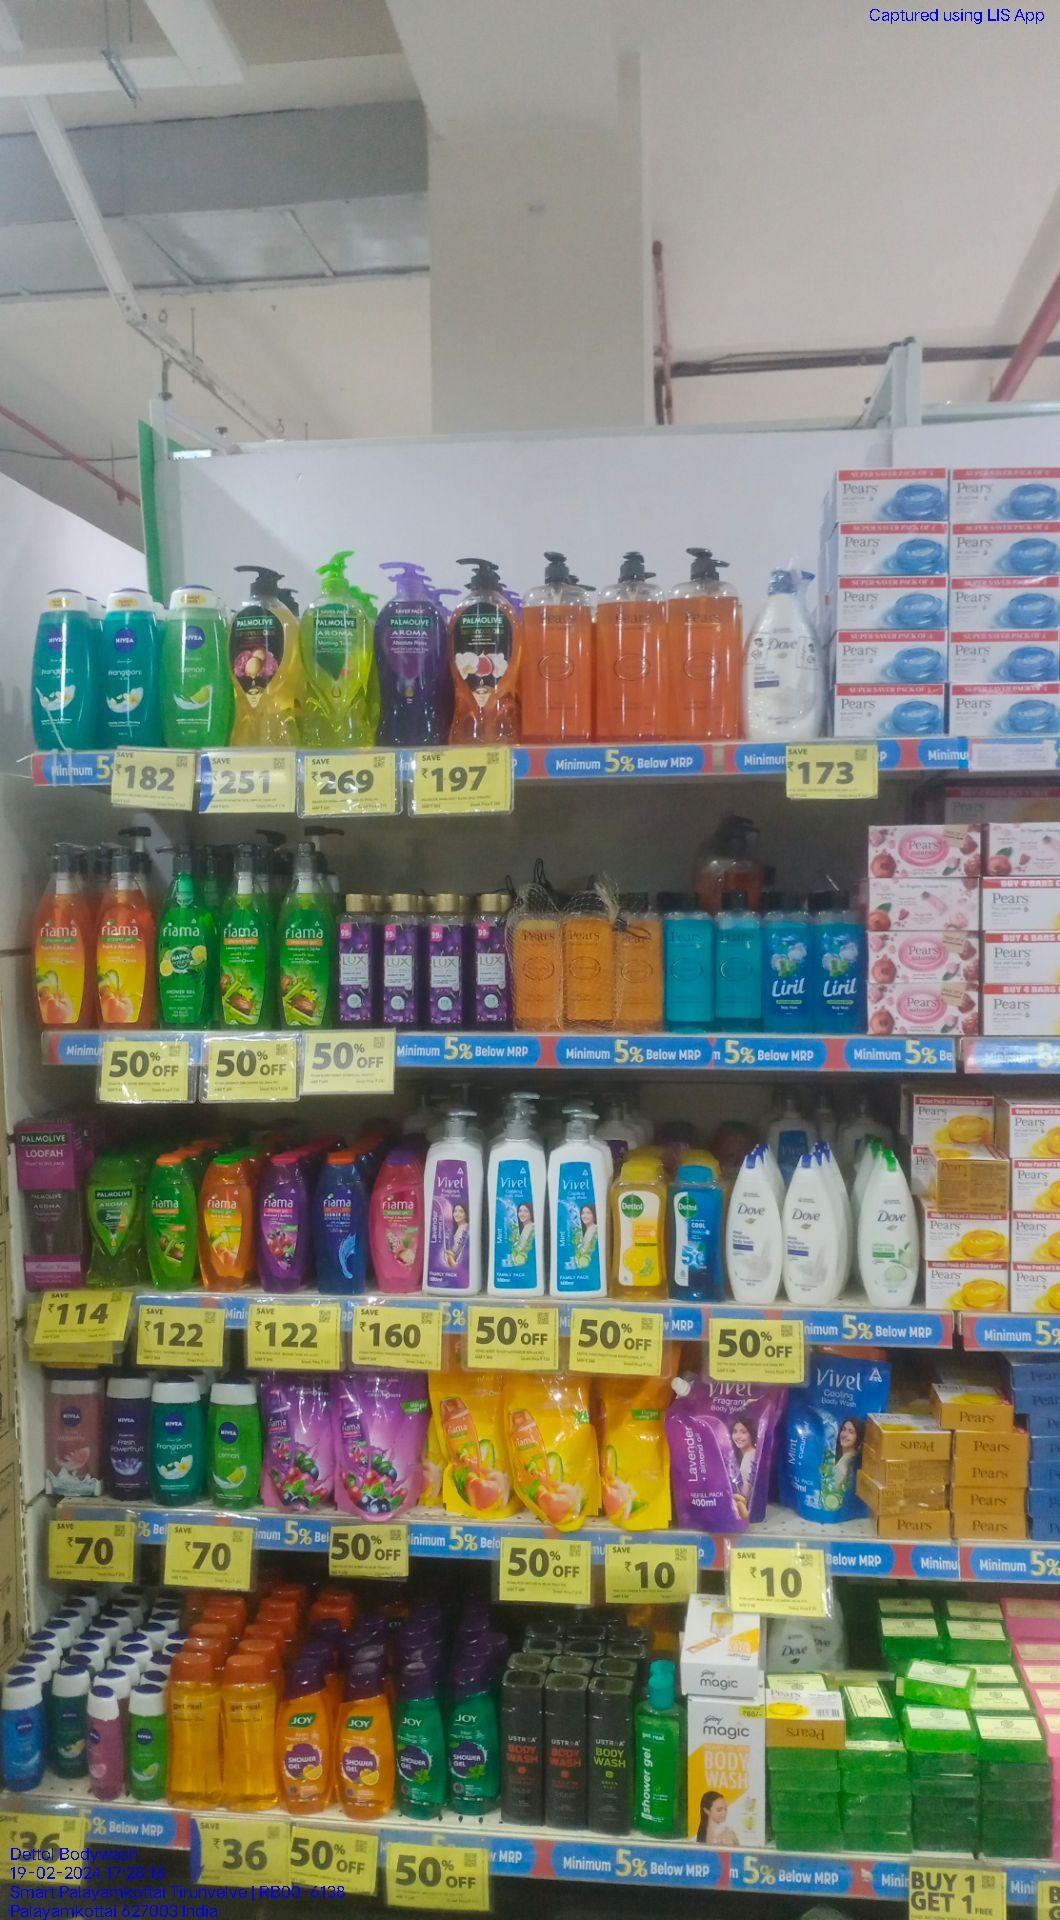Dettol_Bodywash_Cool: (671, 1164, 722, 1303)
Dettol_Bodywash_Refresh: (610, 1160, 668, 1301)
Dove_Deep_Moisture_Body_Wash_250ML: (782, 1151, 845, 1307), (726, 1156, 779, 1304)
Dove_Refreshing_Body_Wash_250ML: (858, 1155, 919, 1308)
Fiama_Shower_Gel_Lemongrass_and_Jojoba_250ML: (145, 1153, 198, 1290)
Fiama_Shower_Gel_Patchouli_and_Macadamia_250ML: (369, 1150, 422, 1292)
Fiama_Shower_Gel_Peach_and_Avocado_250ML: (200, 1155, 251, 1291)
Get_Real_Shower_Gel_Moisturising_Glycerin_300ML: (171, 1659, 223, 1810), (227, 1662, 278, 1812)
Joy_Shower_Gel_Mandarin_and_Lemongrass_250ML: (338, 1663, 394, 1817), (285, 1663, 332, 1805)
Joy_Shower_Gel_Mint_and_Eucalyptus_250ML: (449, 1664, 499, 1818), (398, 1667, 446, 1818)
Liril_Cooling_Mint_Body_Wash_250ML: (766, 888, 813, 1034), (816, 889, 863, 1034)
Lux_Black_Orchid_Scent_and_Juniper_Oil_Body_Wash_245ML: (467, 893, 512, 1030), (337, 891, 377, 1027), (381, 891, 422, 1027), (426, 894, 465, 1030)
Nivea_Shower_Gel_Frangipani_and_Oil_250ML: (33, 583, 94, 749), (99, 587, 158, 745), (153, 1377, 204, 1508), (50, 1668, 89, 1778)
Nivea_Shower_Gel_Fresh_Powerfruit_250ML: (103, 1376, 150, 1500)
Nivea_Shower_Gel_Lemon_and_Oil_250ML: (162, 585, 228, 745), (206, 1384, 261, 1504), (127, 1689, 168, 1800)
Pears_Pure_Glycerin_and_Mint_Extracts_Body_Wash_250ML: (664, 888, 714, 1030), (717, 886, 761, 1031)
